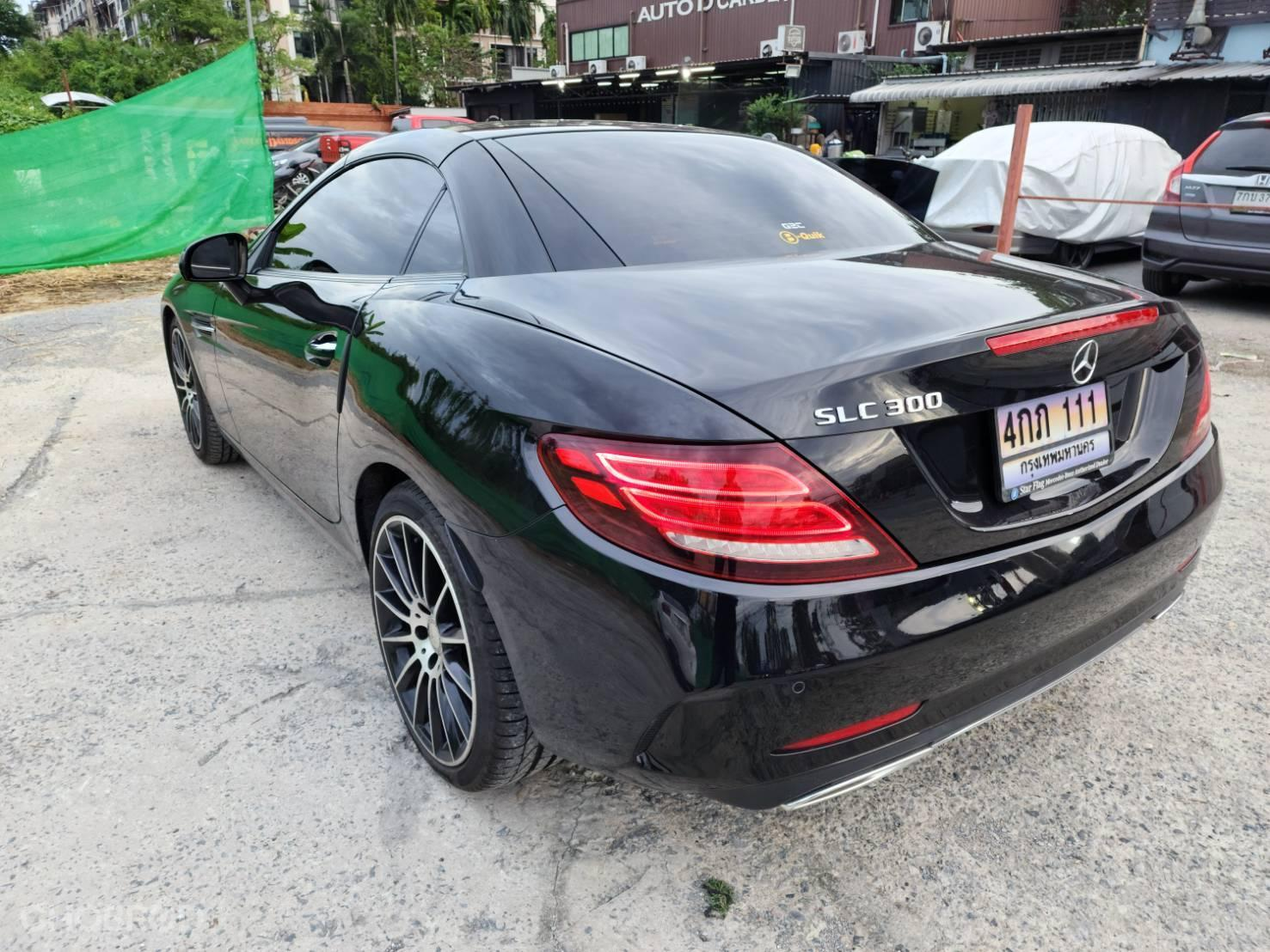license-plate: (978, 371, 1131, 523)
